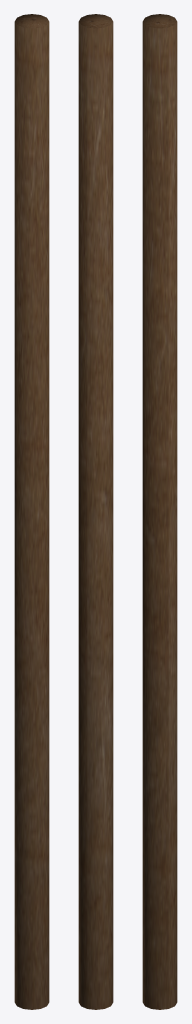
Rendered from Basic_Staff.fbx.
3 views of the same model, side by side, from view 1: azimuth 90°, elevation 25°; view 2: azimuth 210°, elevation 25°; view 3: azimuth 270°, elevation 25° (orthographic).
Visible parts, largest first — view 1: Basic_Staff; view 2: Basic_Staff; view 3: Basic_Staff.
Boxes of the visible parts, <box> form: Basic_Staff: <box>14,14,49,1009</box>; Basic_Staff: <box>78,14,113,1009</box>; Basic_Staff: <box>142,14,177,1009</box>.
Size of the model in its own units: 0.3021 by 9.52 by 0.3021.
